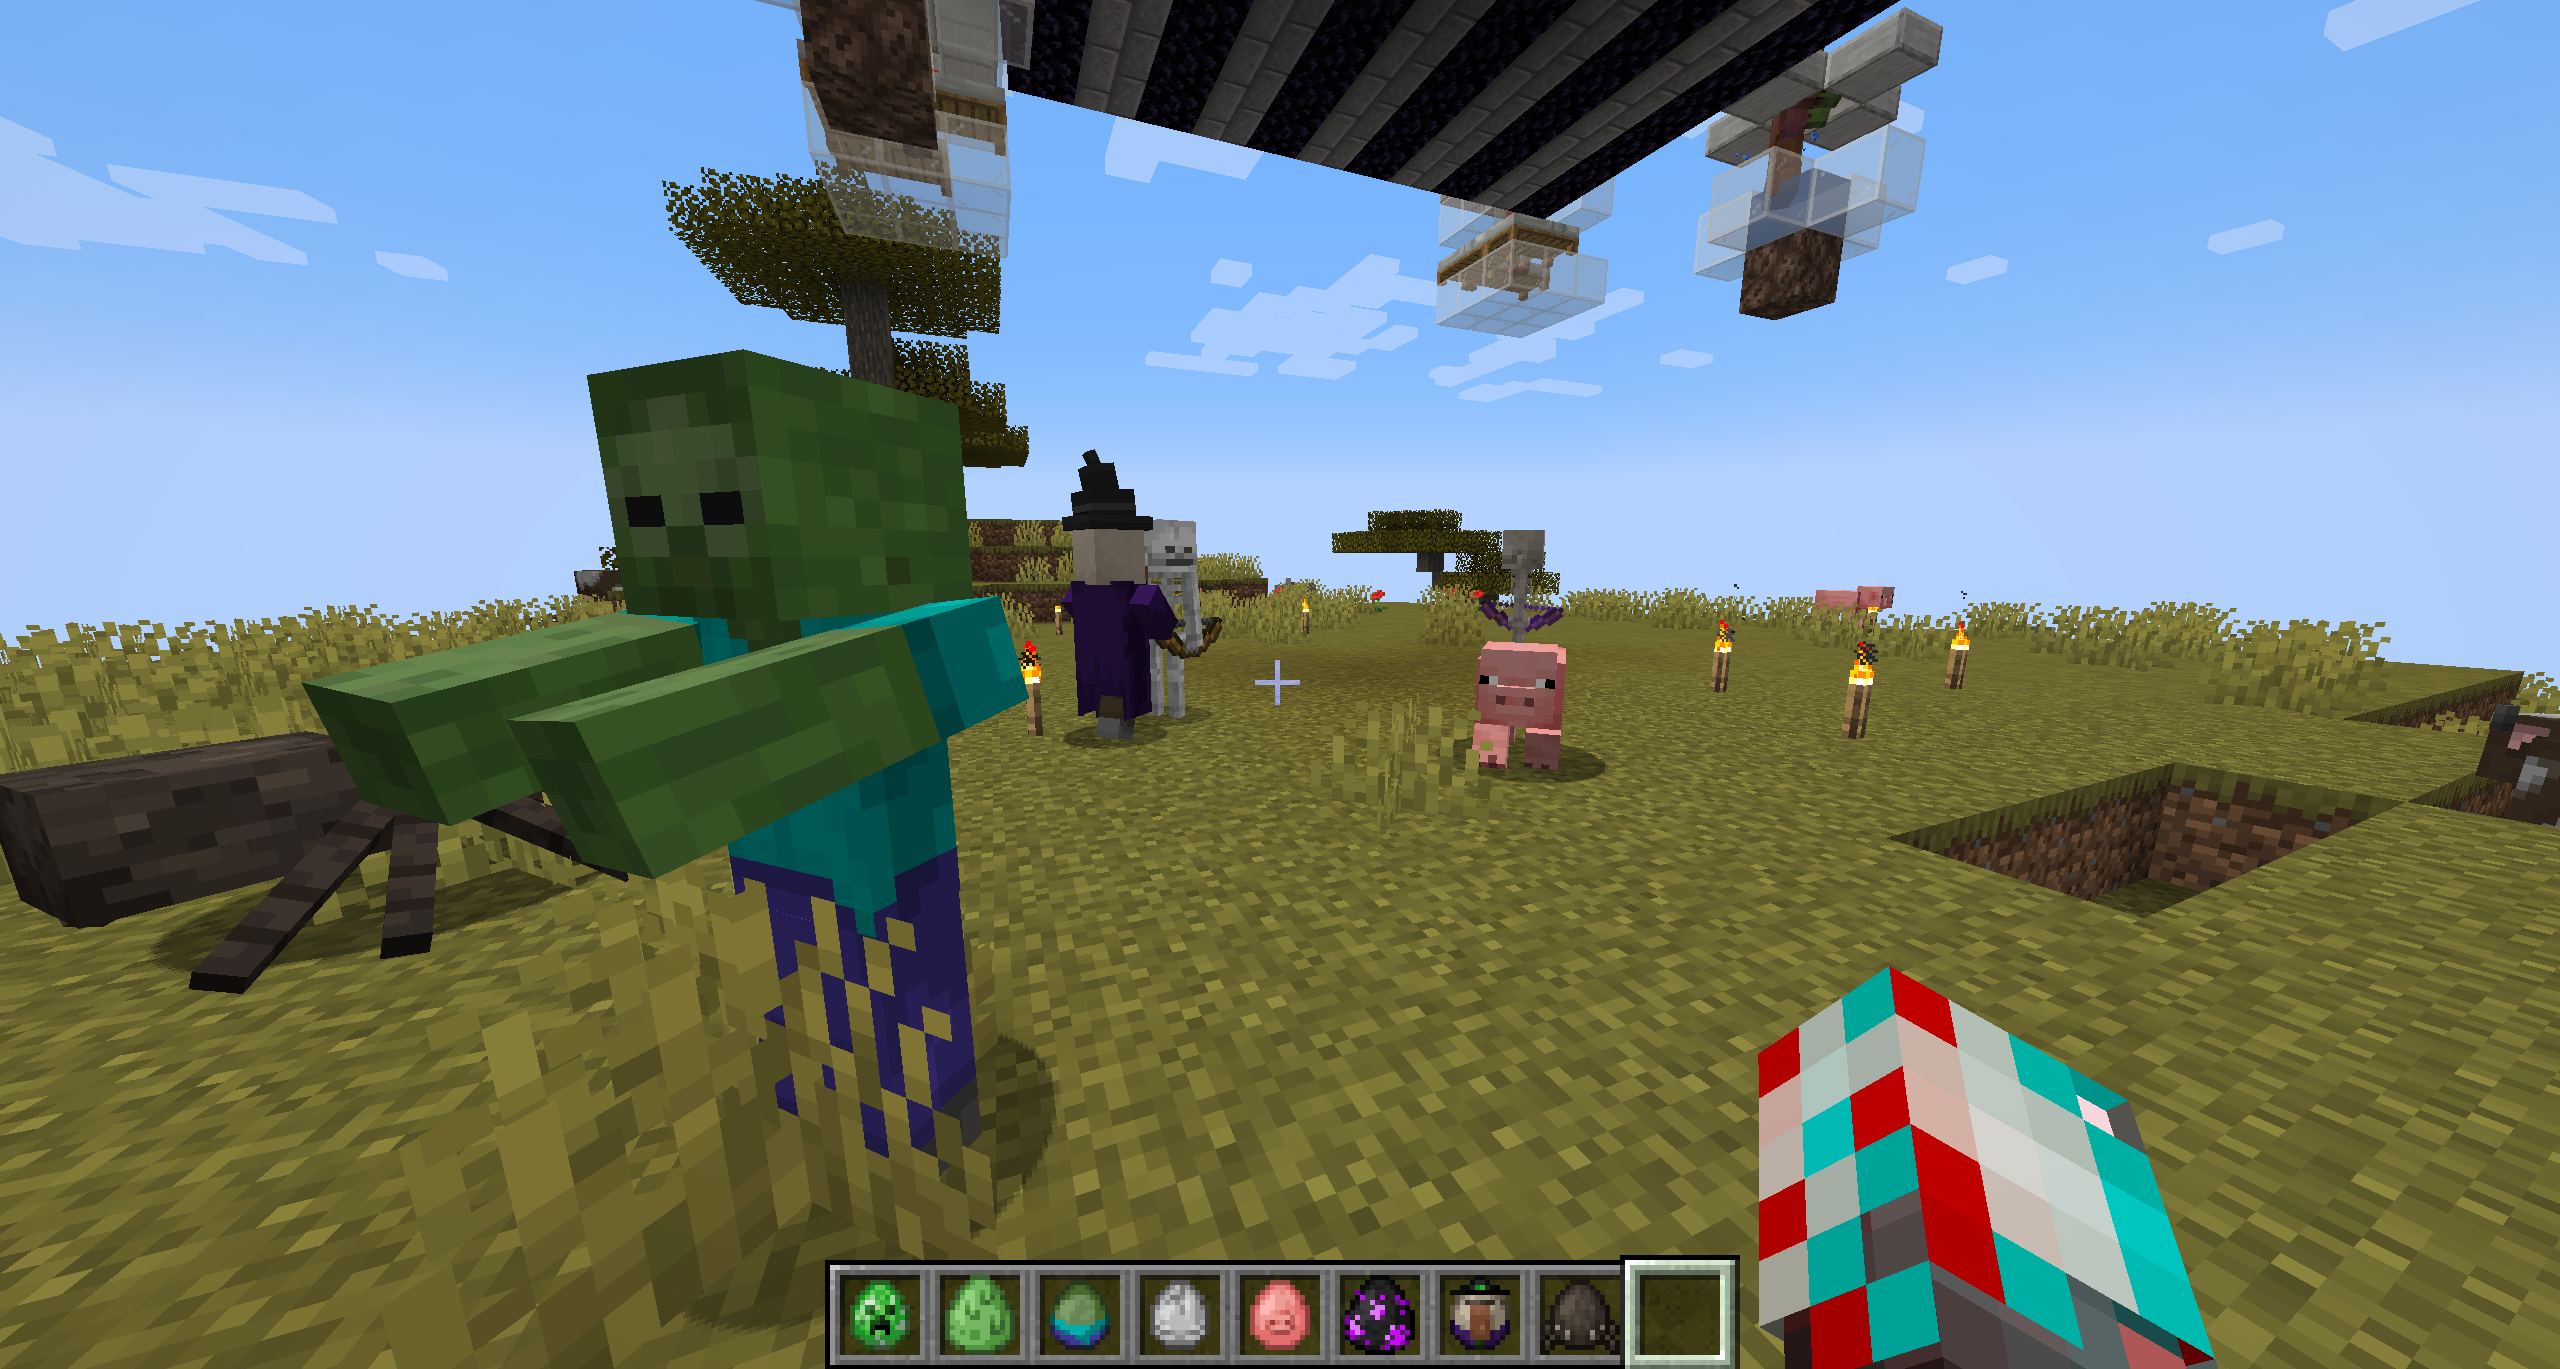araignees: (20, 761, 577, 971)
cochons: (1468, 645, 1570, 783), (1808, 584, 1903, 636)
sorcieres: (1050, 438, 1151, 739)
squelettes: (1146, 518, 1212, 726), (1497, 528, 1563, 641)
zombies: (557, 354, 1014, 1193)
